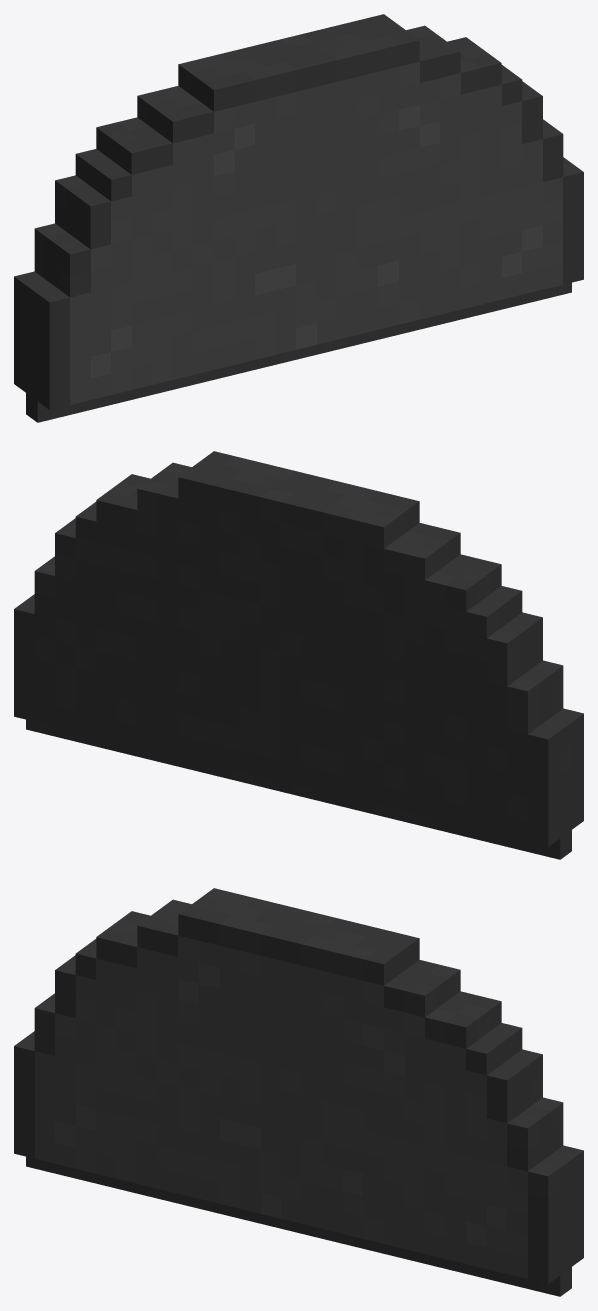
The model's file is stonedoor.fbx.
3 views of the same model, one above another, from view 1: azimuth 30°, elevation 25°; view 2: azimuth 150°, elevation 25°; view 3: azimuth 330°, elevation 25° (orthographic).
Parts seen in each view (by area): view 1: stonedoor1; view 2: stonedoor1; view 3: stonedoor1.
Boxes of the visible parts, x1,y1,x2,y2 form: stonedoor1: [14, 14, 583, 422]; stonedoor1: [14, 451, 583, 859]; stonedoor1: [14, 888, 583, 1296].
Bounding box in the file's own units: 26 × 14 × 3.
Materials: 1 (1 with a texture image).
